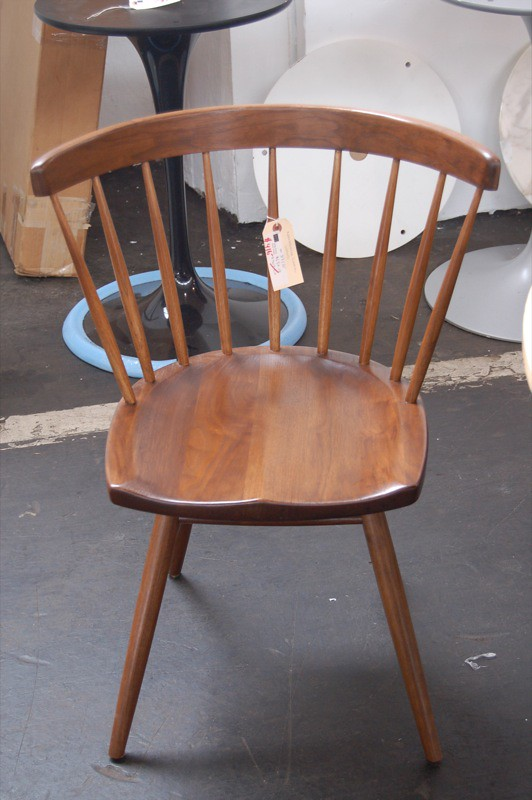chair: (16, 50, 486, 786)
